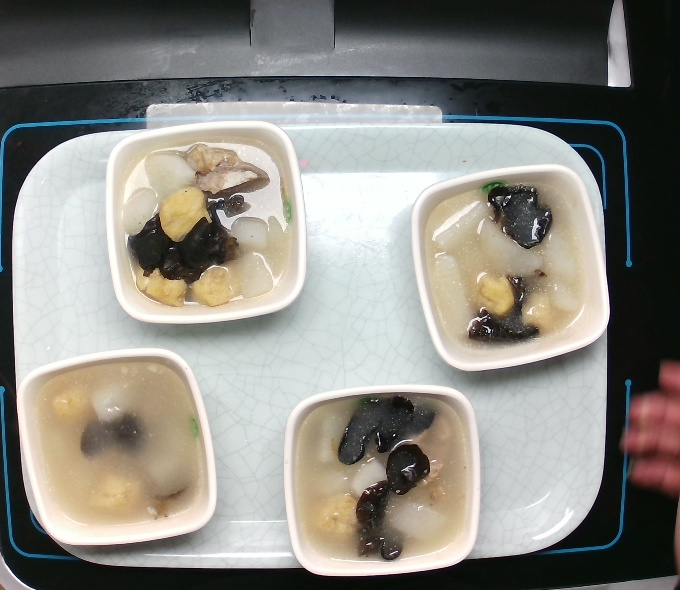wcq-ShanYaoTang: (114, 131, 292, 310), (291, 390, 469, 564), (30, 357, 205, 528), (421, 178, 589, 353)
